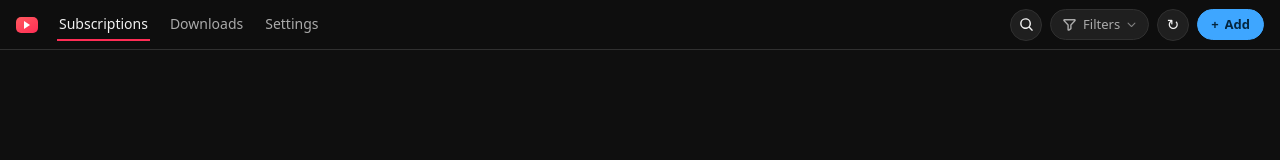
Test: the folded search › folds back to the magnifier when left empty
Click the button named "Open search" at (1026, 24), box [1010,8,1042,40]
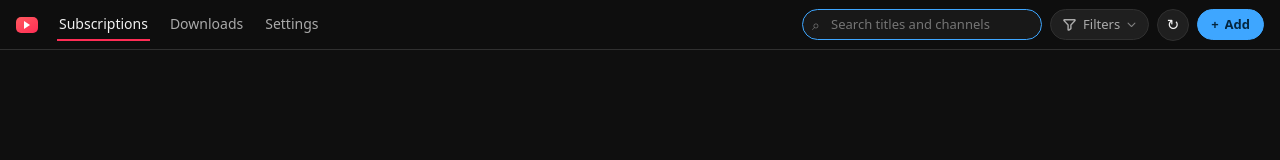
Leave the search field named "Search videos", box [802,9,1042,40]
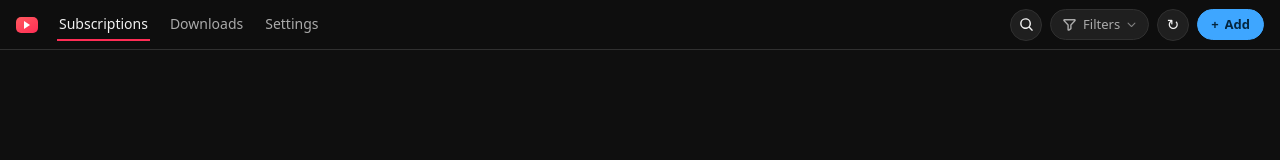
Expected: the button named "Open search" is shown, [1010,8,1042,40]
